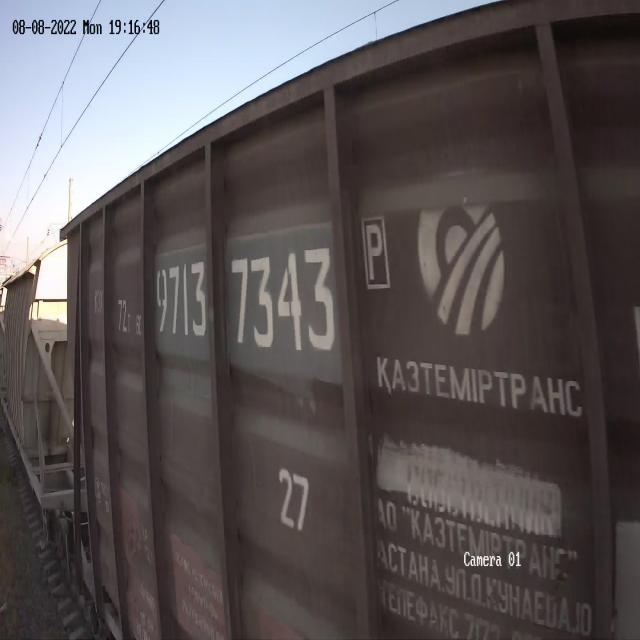hopper: (49, 0, 640, 640), (0, 226, 75, 494)
